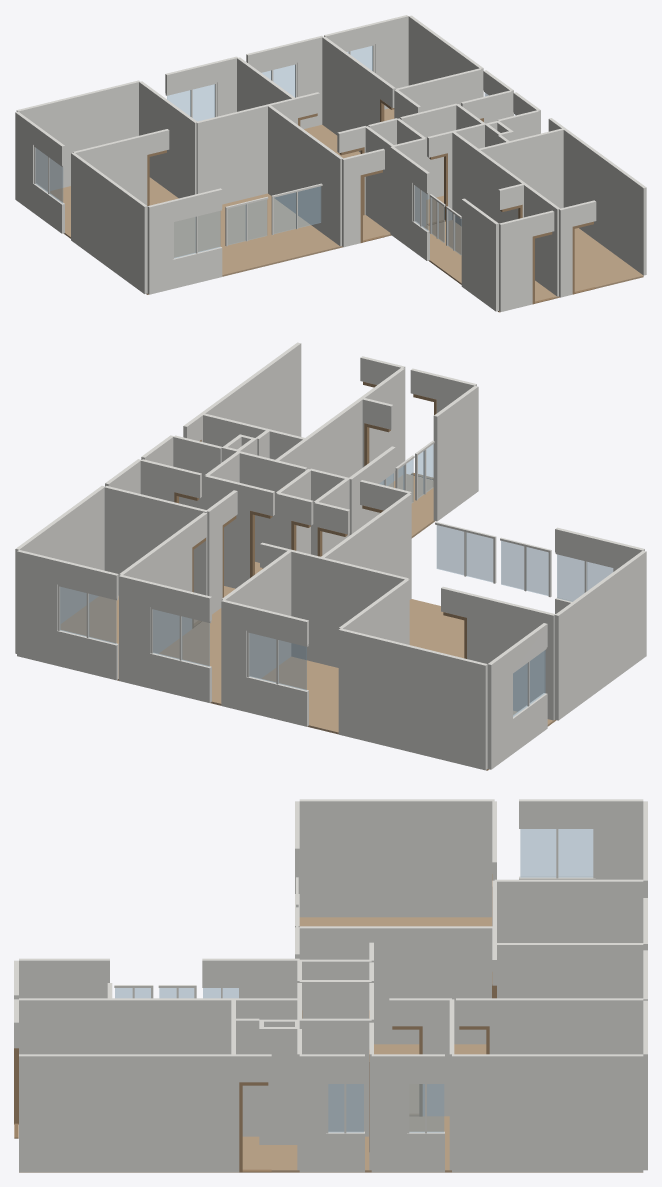
File: high_quality_architectural_22.glb
The picture shows the model from 3 angles, top to bottom: view 1: azimuth 30°, elevation 25°; view 2: azimuth 150°, elevation 25°; view 3: azimuth 270°, elevation 25°; orthographic projection. The views are drawn at different scales.
Visible parts, largest first — view 1: Floor_15_living_room, Wall_51_solid, Wall_38_solid, Wall_34_solid, Wall_48_solid, Wall_35_solid, Wall_23_solid, Wall_49_solid, Wall_17_solid, Wall_12_solid, Wall_20_solid, Wall_31_solid (+53 smaller); view 2: Wall_34_solid, Wall_51_solid, Wall_32_solid, Wall_36_solid, Wall_17_solid, Wall_38_solid, Wall_31_solid, Wall_48_solid, Wall_30_solid, Wall_21_solid, Wall_23_solid, Wall_22_solid (+53 smaller); view 3: Wall_38_solid, Wall_51_solid, Wall_31_solid, Wall_49_solid, Wall_35_solid, Wall_23_solid, Wall_21_solid, Wall_28_solid, Wall_19_solid, Wall_7_solid, Wall_41_solid, Wall_33_solid (+29 smaller).
Boxes of the visible parts, bbox=[...] form: Floor_15_living_room: bbox=[146, 193, 341, 294]; Wall_51_solid: bbox=[71, 152, 147, 293]; Wall_38_solid: bbox=[563, 128, 646, 275]; Wall_34_solid: bbox=[16, 80, 139, 190]; Wall_48_solid: bbox=[196, 104, 267, 204]; Wall_35_solid: bbox=[139, 81, 197, 198]; Wall_23_solid: bbox=[322, 36, 380, 152]; Wall_49_solid: bbox=[267, 105, 315, 226]; Wall_17_solid: bbox=[461, 198, 498, 311]; Wall_12_solid: bbox=[508, 128, 563, 208]; Wall_20_solid: bbox=[499, 216, 532, 311]; Wall_31_solid: bbox=[408, 15, 483, 97]; Wall_34_solid: bbox=[338, 628, 487, 770]; Wall_51_solid: bbox=[554, 550, 646, 720]; Wall_32_solid: bbox=[104, 486, 207, 595]; Wall_36_solid: bbox=[467, 593, 555, 720]; Wall_17_solid: bbox=[433, 386, 478, 521]; Wall_38_solid: bbox=[201, 342, 301, 436]; Wall_31_solid: bbox=[15, 485, 105, 653]; Wall_48_solid: bbox=[320, 557, 408, 667]; Wall_30_solid: bbox=[17, 550, 58, 665]; Wall_21_solid: bbox=[221, 550, 291, 678]; Wall_23_solid: bbox=[119, 525, 189, 653]; Wall_22_solid: bbox=[119, 574, 151, 688]; Wall_38_solid: bbox=[19, 1054, 233, 1172]; Wall_51_solid: bbox=[299, 799, 494, 917]; Wall_31_solid: bbox=[452, 1054, 643, 1172]; Wall_49_solid: bbox=[371, 926, 494, 1044]; Wall_35_solid: bbox=[494, 879, 643, 942]; Wall_23_solid: bbox=[494, 998, 643, 1054]; Wall_21_solid: bbox=[494, 943, 643, 998]; Wall_28_solid: bbox=[110, 998, 233, 1054]; Wall_19_solid: bbox=[19, 998, 109, 1054]; Wall_7_solid: bbox=[299, 1018, 371, 1136]; Wall_41_solid: bbox=[371, 1054, 406, 1172]; Wall_33_solid: bbox=[595, 799, 643, 879].
Size of the model in its own units: 12.83 by 2.75 by 13.37.
